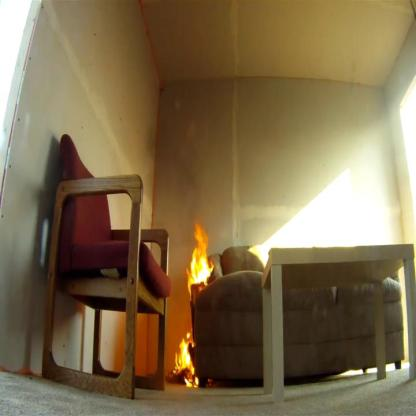fire: (184, 220, 216, 298), (172, 328, 201, 392)
